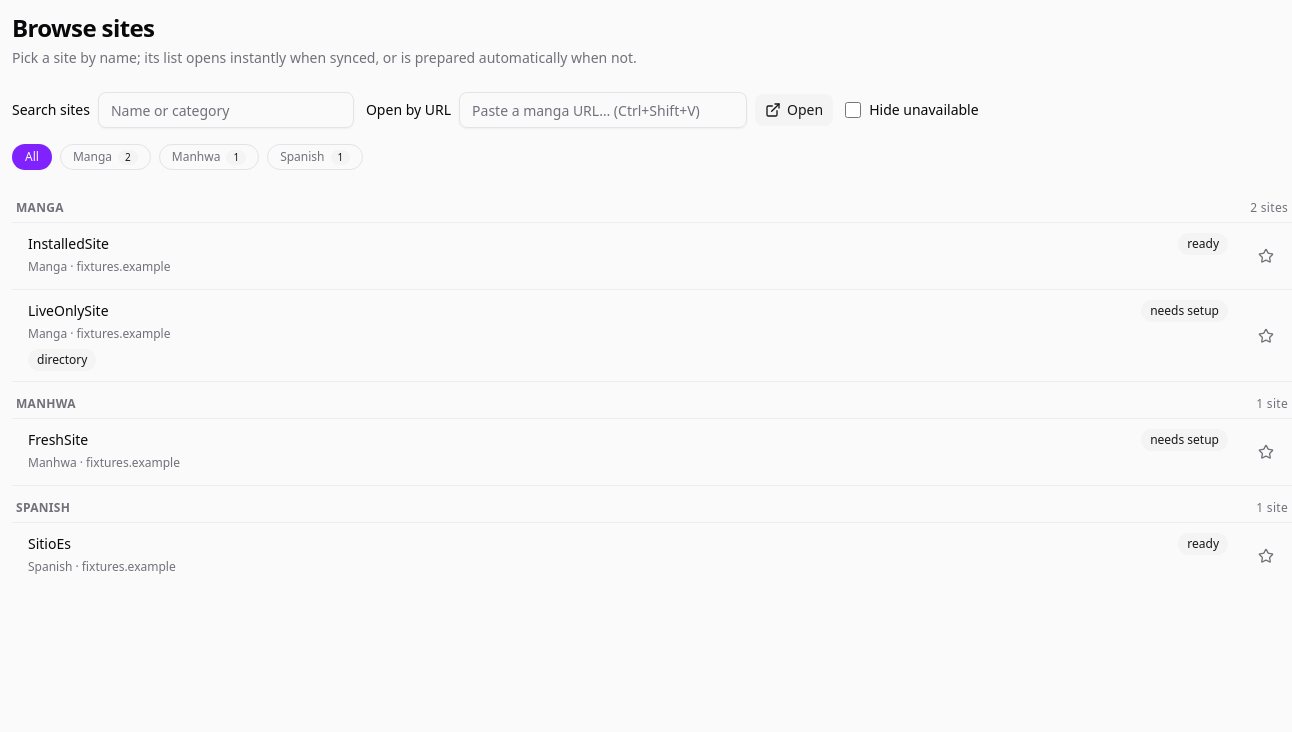
Test case: SitePickerPage (browse default state) › chips AND-compose with the search box
expect the text "InstalledSite" is shown: met, box top-left (28, 234), bottom-right (109, 253)
Click the button "Manga 2" at point(105, 157), box top-left (60, 144), bottom-right (151, 170)
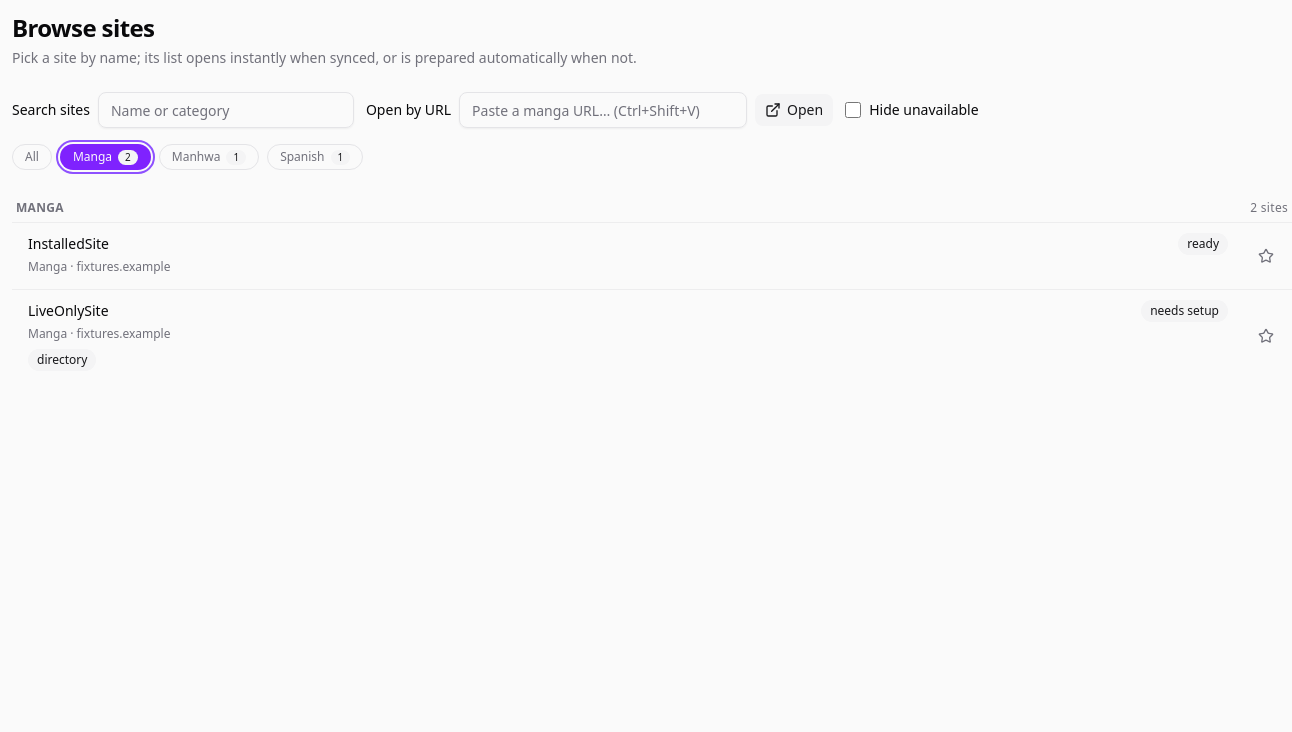
Type "live" into the search field labelled "Search sites" at point(226, 110), box top-left (98, 92), bottom-right (354, 128)
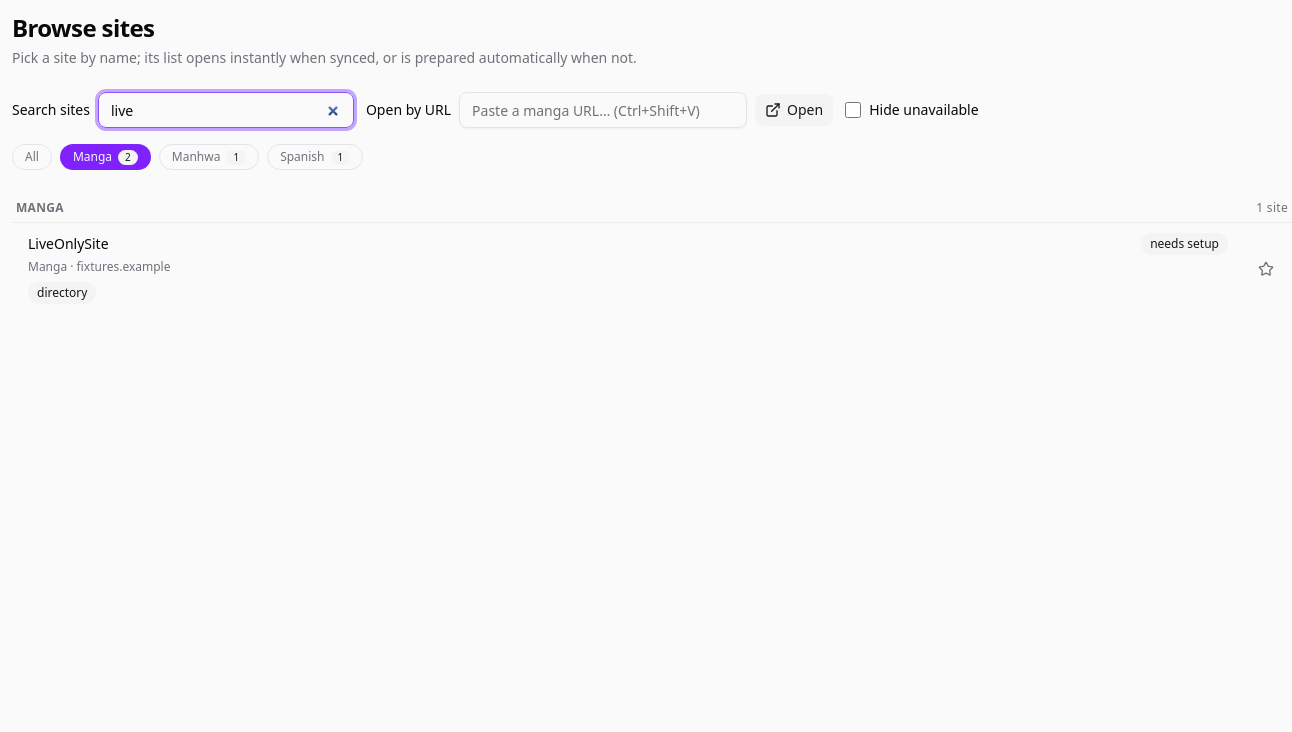
expect the text "LiveOnlySite" is shown: met, box top-left (28, 234), bottom-right (108, 253)
expect the button "InstalledSite" is gone: met
